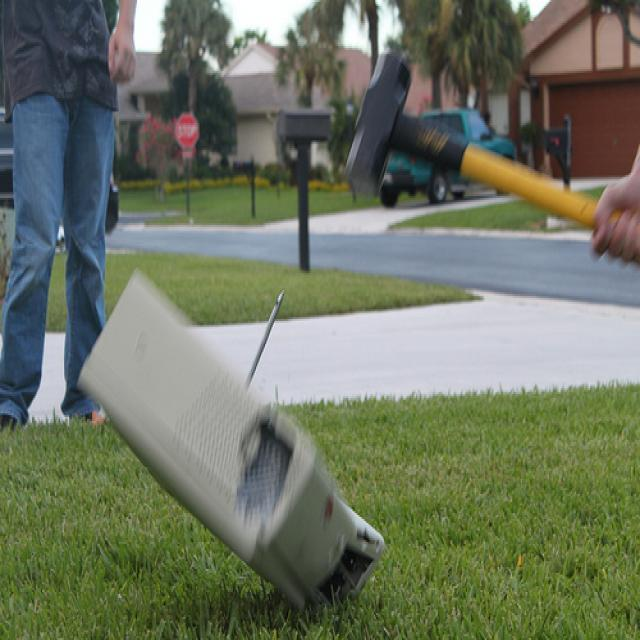hammer: (333, 30, 640, 276)
